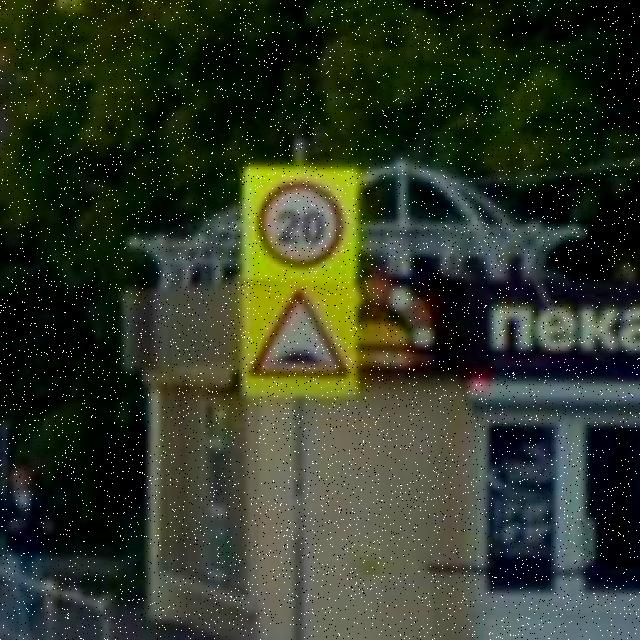Ograniczenie predkosci do 20: (252, 178, 350, 272)
